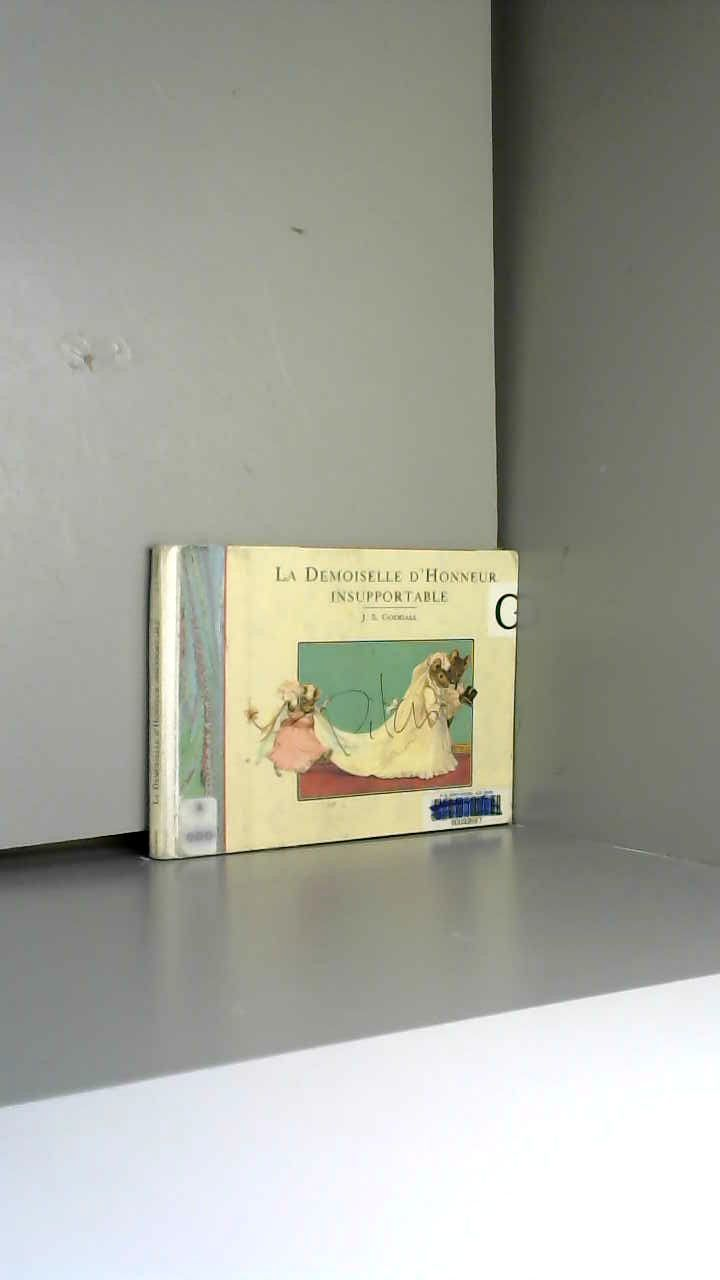book: (117, 500, 558, 900)
